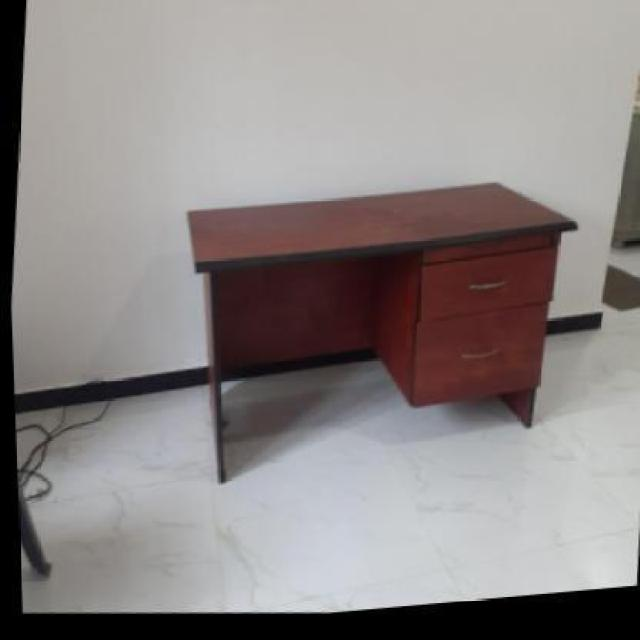tables: (185, 180, 577, 483)
